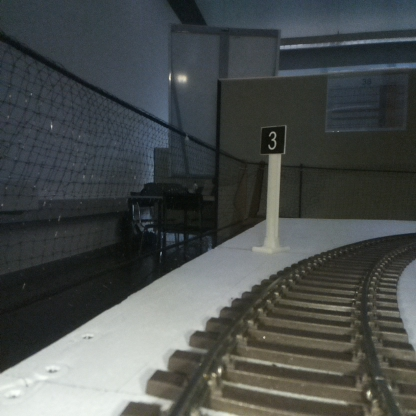black-info-3: (261, 125, 285, 251)
